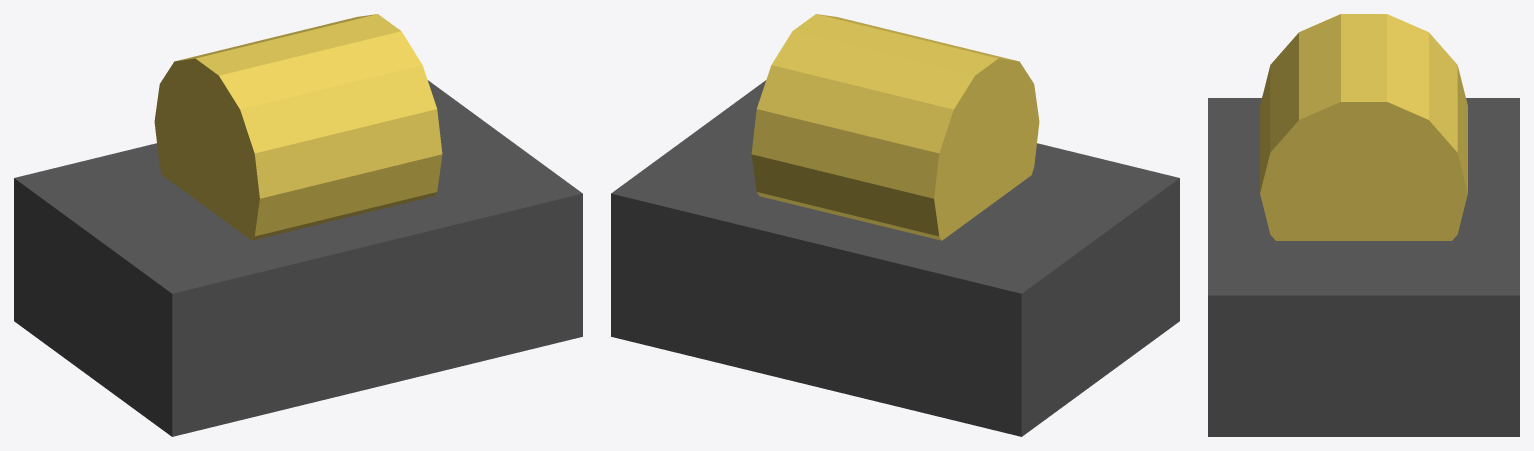
The model's file is commercial_winch.glb.
3 renders of one model, left to right at view 1: azimuth 30°, elevation 25°; view 2: azimuth 150°, elevation 25°; view 3: azimuth 270°, elevation 25°, orthographic.
Visible parts, largest first — view 1: winchbase, drum; view 2: winchbase, drum; view 3: winchbase, drum.
Boxes of the visible parts, <box> form: winchbase: <box>14,80,582,436</box>; drum: <box>154,14,442,240</box>; winchbase: <box>611,80,1179,436</box>; drum: <box>751,14,1039,240</box>; winchbase: <box>1208,98,1519,436</box>; drum: <box>1260,14,1467,240</box>.
Bounding box in the file's own units: 1.8 × 1.19 × 1.2.
